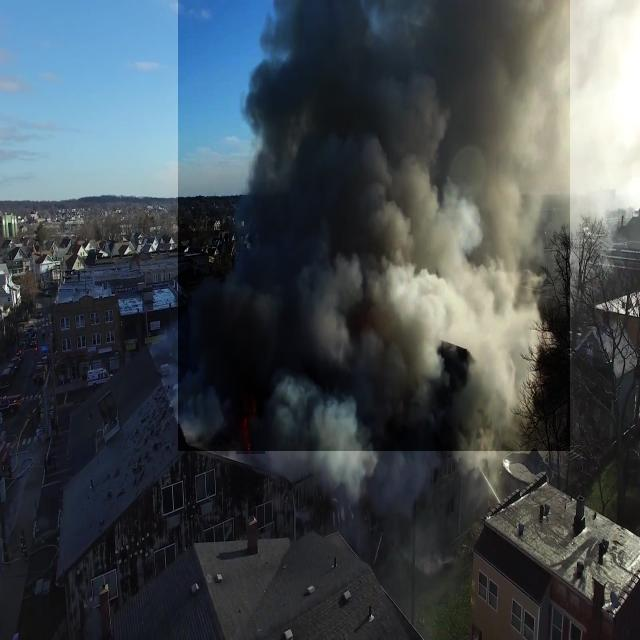Fire: (236, 378, 265, 454)
Smoke: (178, 0, 570, 451)
